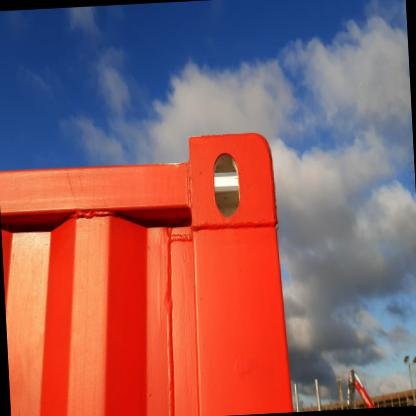CornerCasting: (183, 126, 279, 230)
